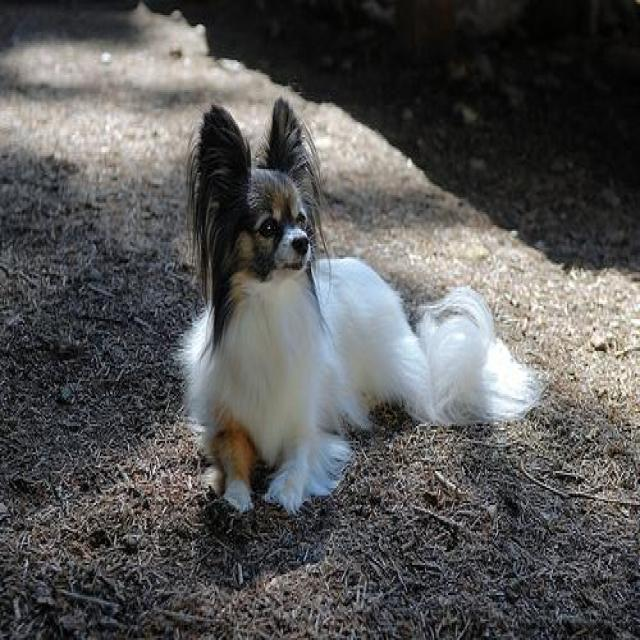papillon: (178, 98, 540, 510)
